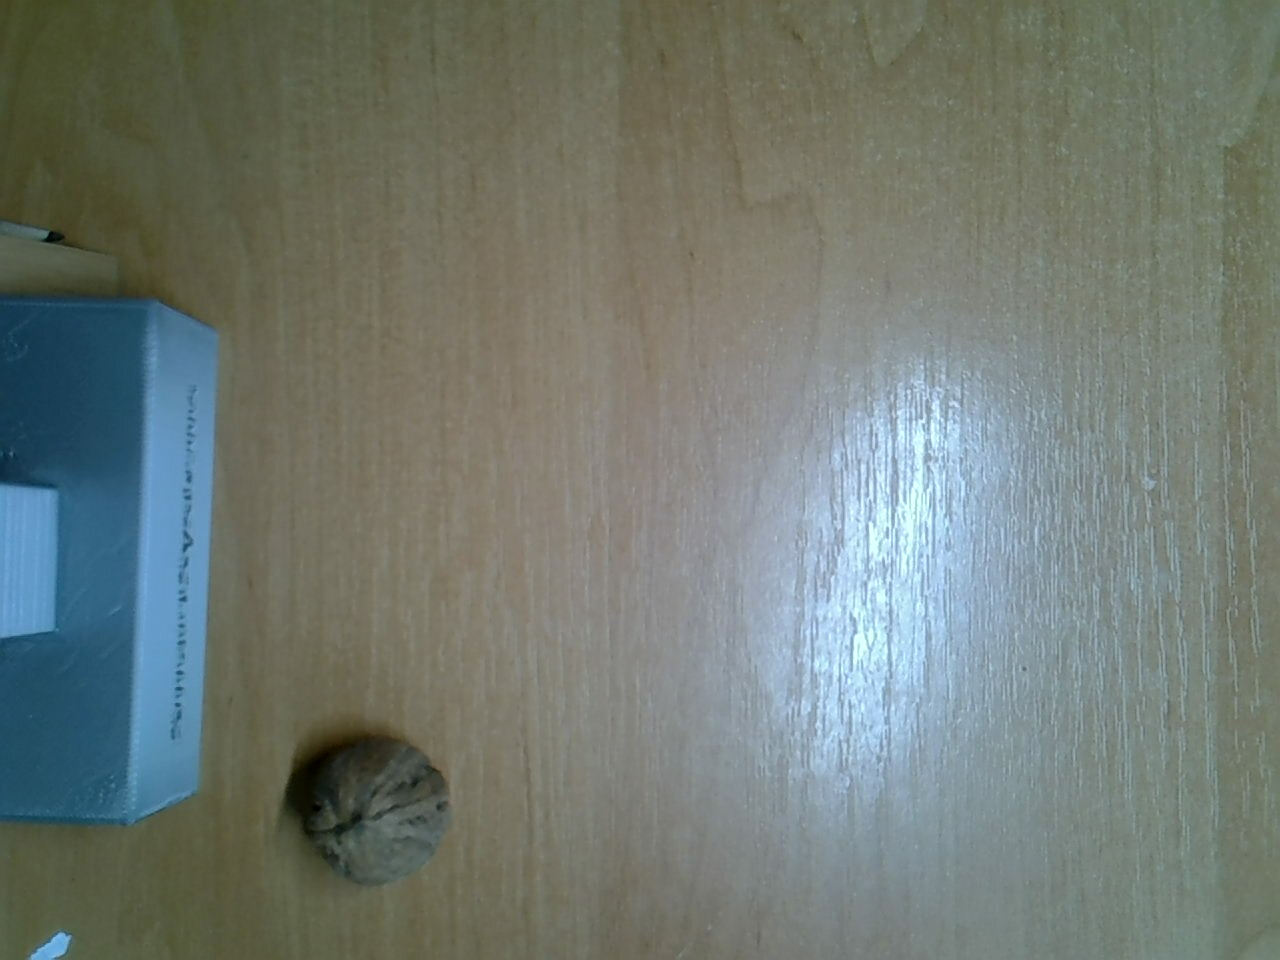nut: (304, 733, 455, 890)
